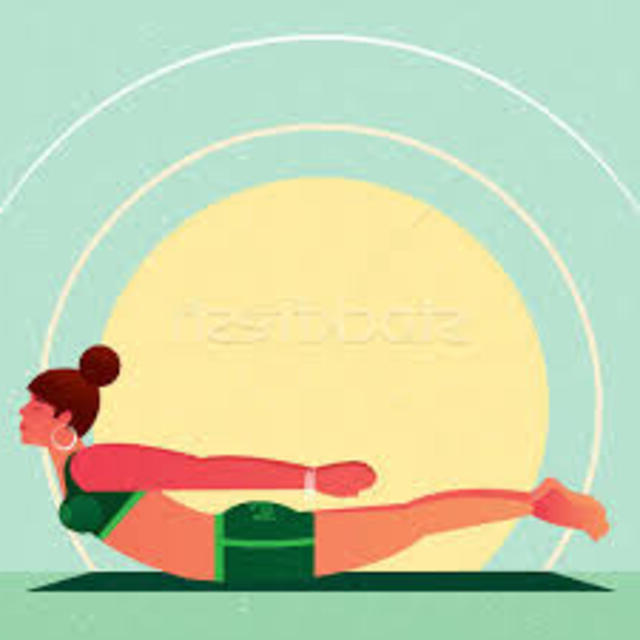Locust_Pose: (12, 344, 613, 584)
